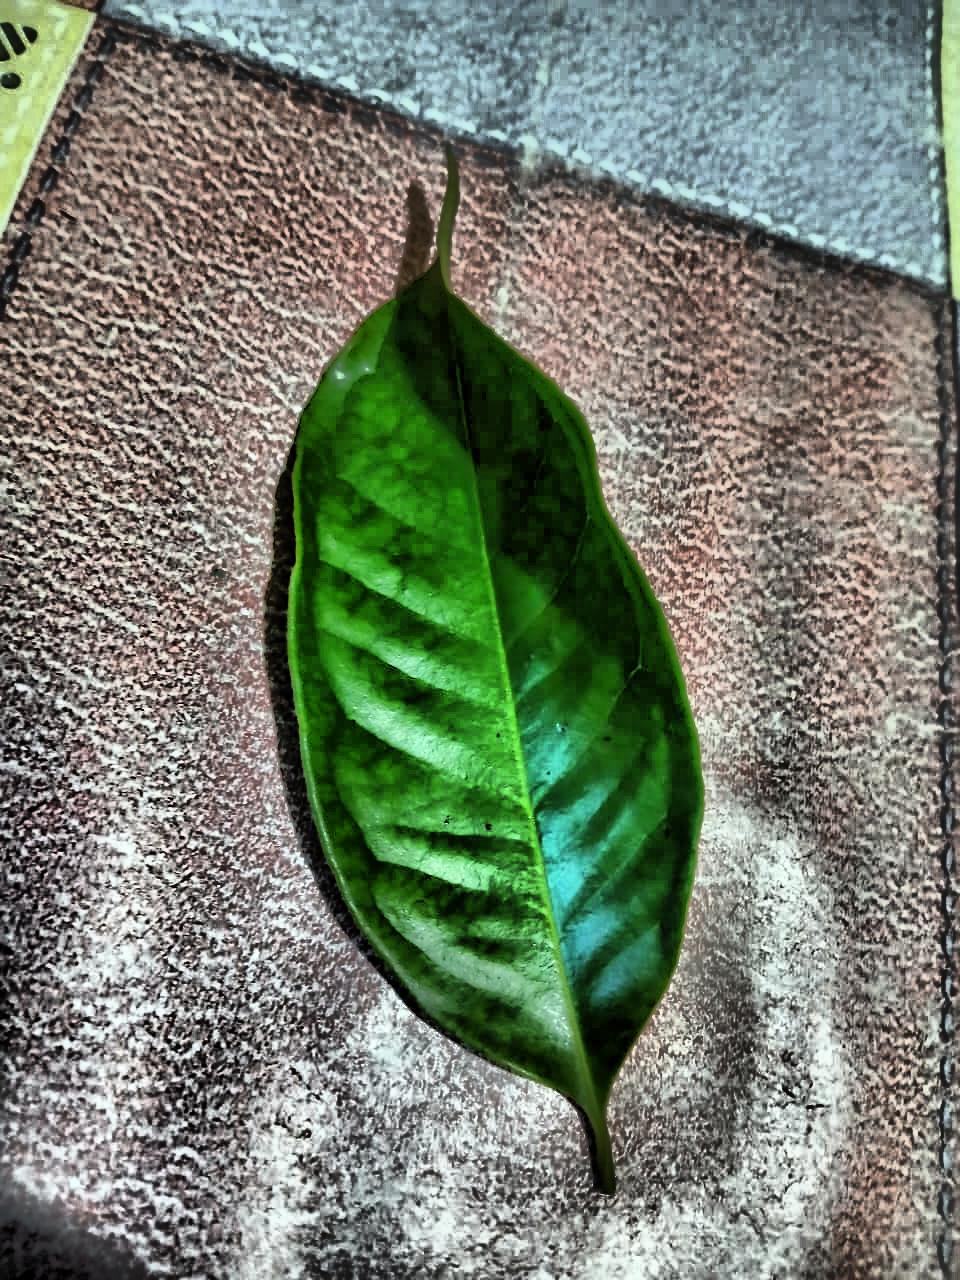daun salam: (288, 157, 702, 1191)
